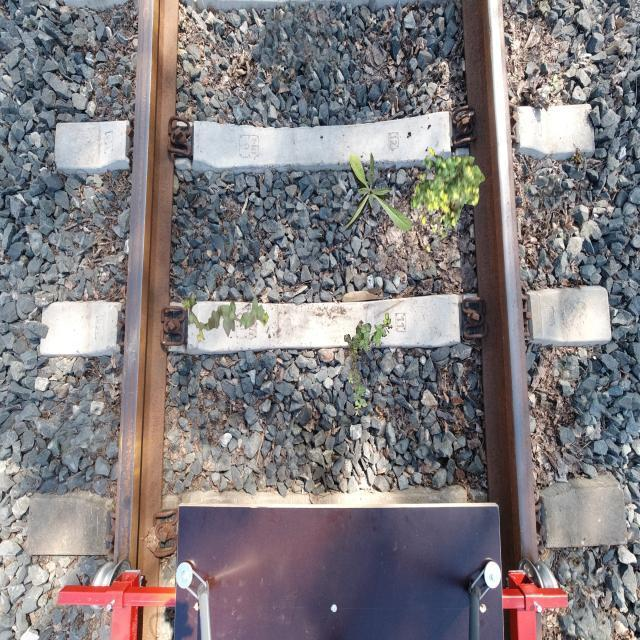Plant: (411, 148, 486, 253), (340, 152, 412, 233), (344, 313, 392, 416), (182, 291, 268, 342)
